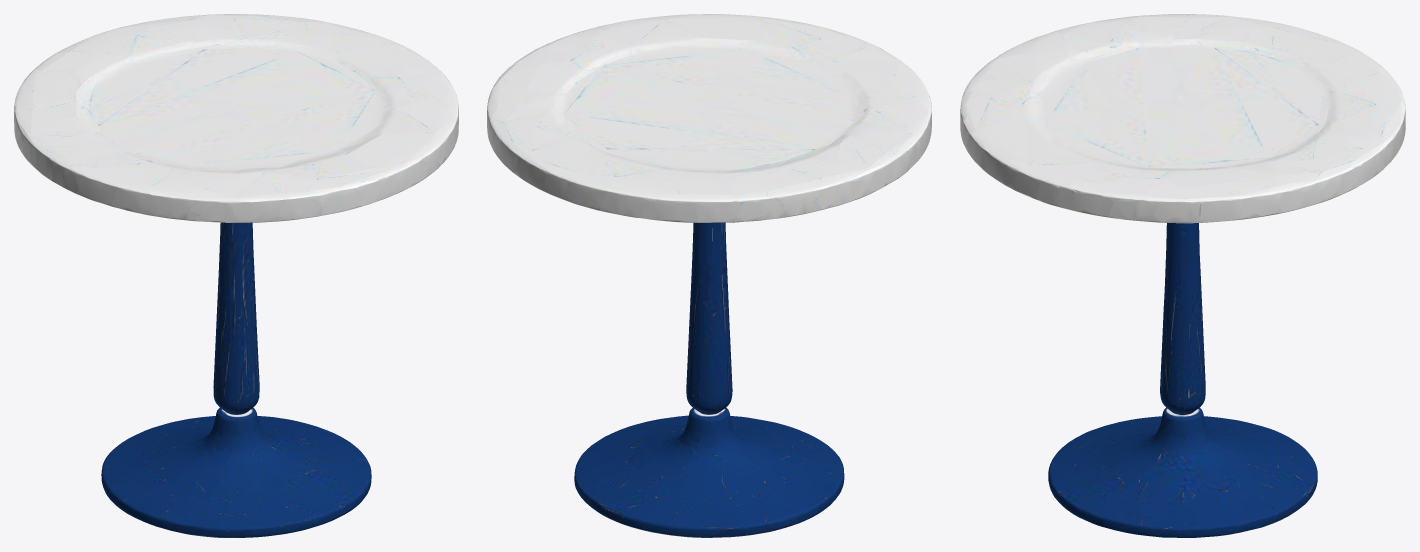
Rendered from addy_bistro_table.glb.
3 views of the same model, side by side, from view 1: azimuth 30°, elevation 25°; view 2: azimuth 150°, elevation 25°; view 3: azimuth 270°, elevation 25° (orthographic).
Size of the model in its own units: 1.9 by 1.78 by 1.9.
Materials: 1 (1 with a texture image).
